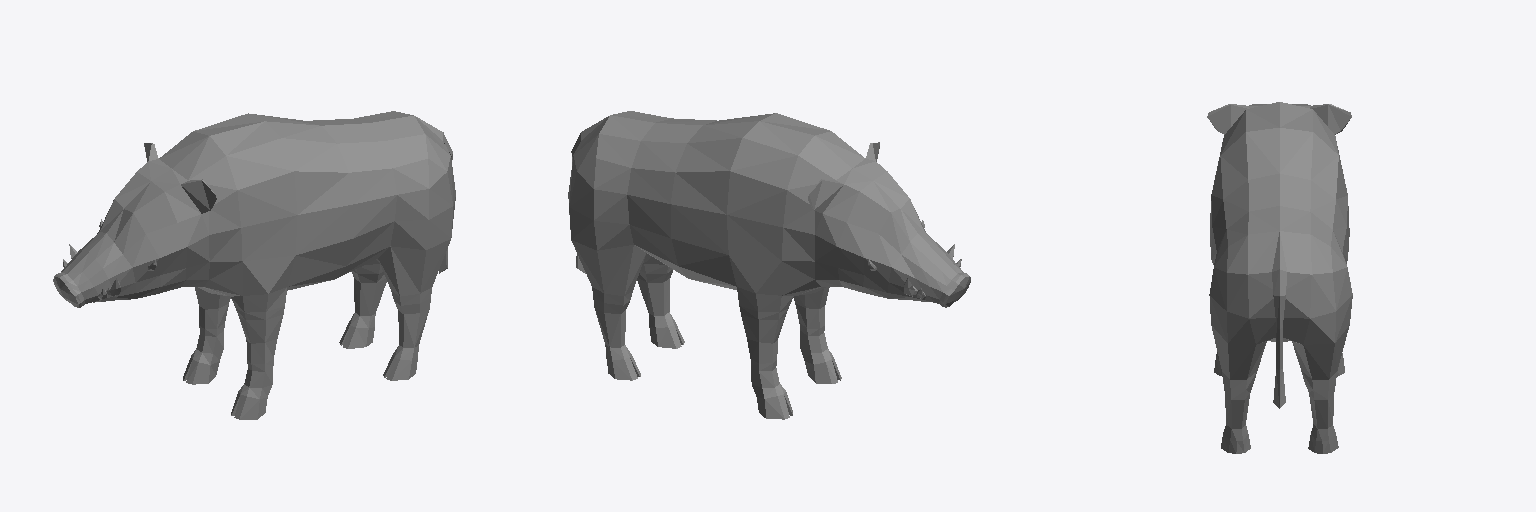
The model's file is boar-obj.obj.
The picture shows the model from 3 angles: view 1: azimuth 30°, elevation 25°; view 2: azimuth 150°, elevation 25°; view 3: azimuth 270°, elevation 25°; orthographic projection.
Visible parts, largest first — view 1: boarS; view 2: boarS; view 3: boarS.
Part boxes in pixels (x1,y1,x2,y2): boarS: (53, 111, 455, 419); boarS: (568, 111, 970, 419); boarS: (1207, 102, 1352, 453).
Size of the model in its own units: 16.84 by 10.85 by 5.4.